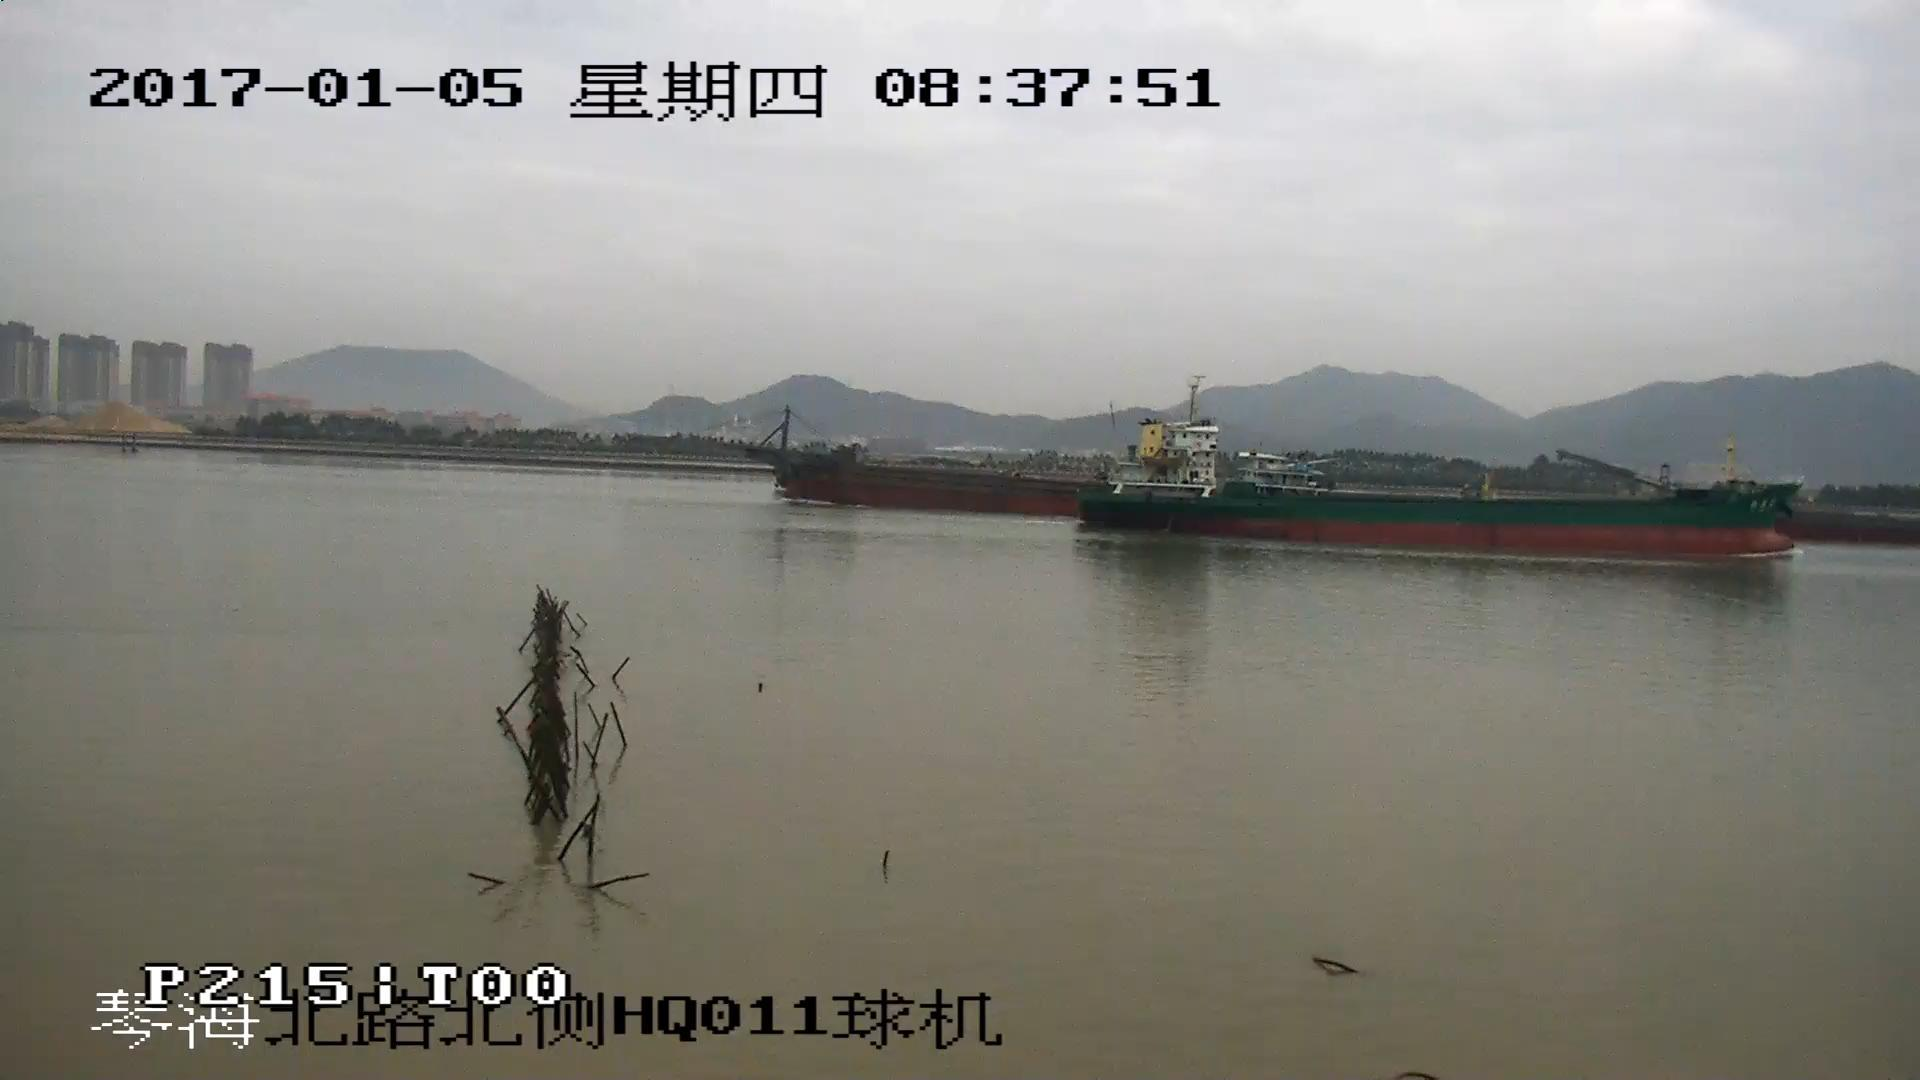Ship: (1075, 386, 1807, 560), (720, 415, 1075, 520)
